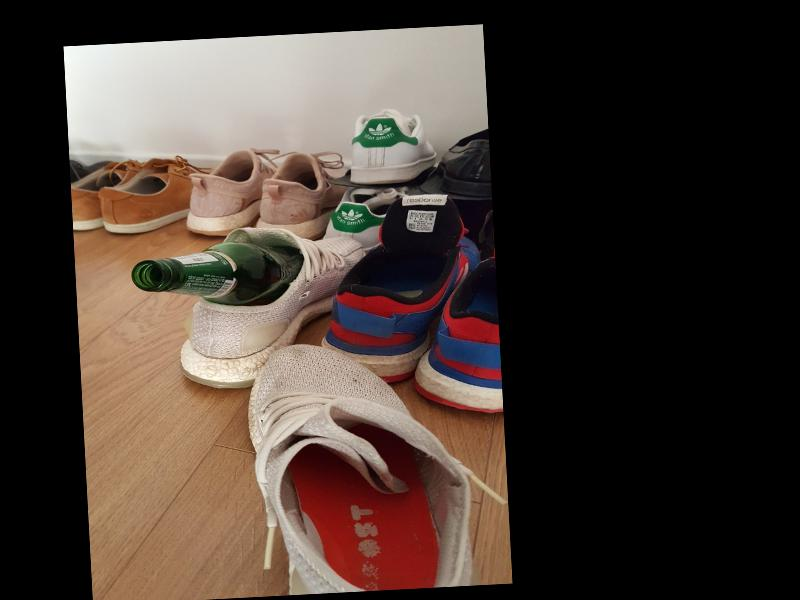Beer: (130, 240, 305, 311)
